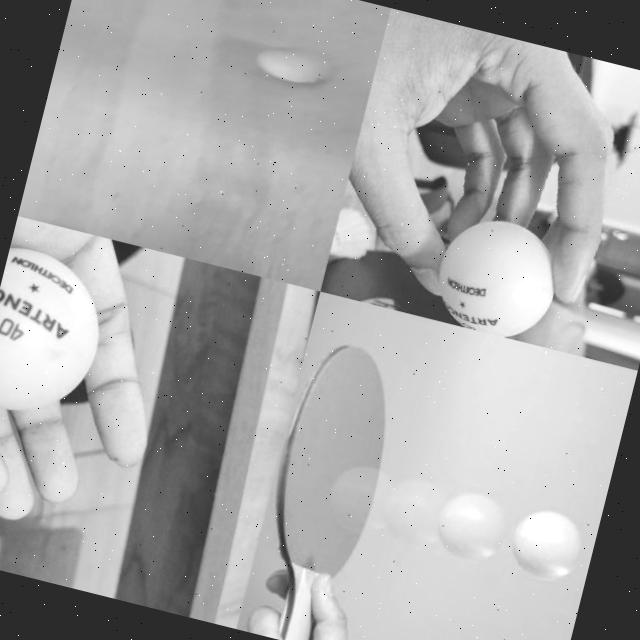ping-pong-ball: (0, 240, 116, 425), (428, 207, 568, 346), (505, 504, 587, 586), (430, 487, 509, 566), (323, 461, 402, 538), (252, 39, 332, 89)
